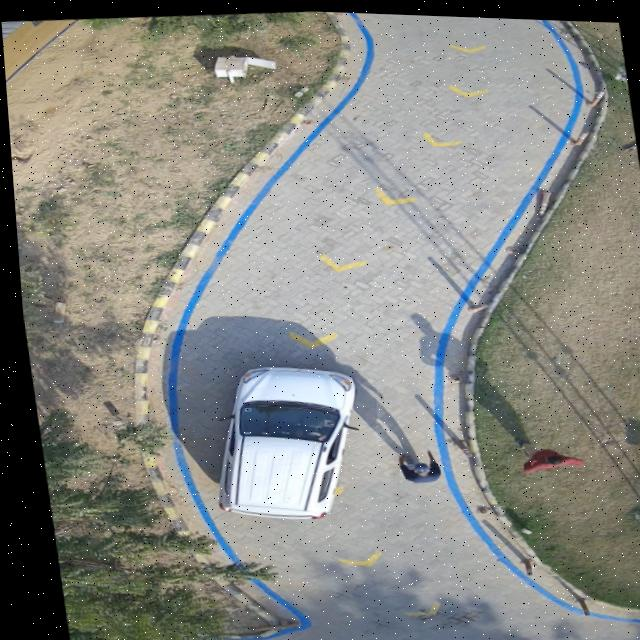car: (211, 365, 349, 517)
